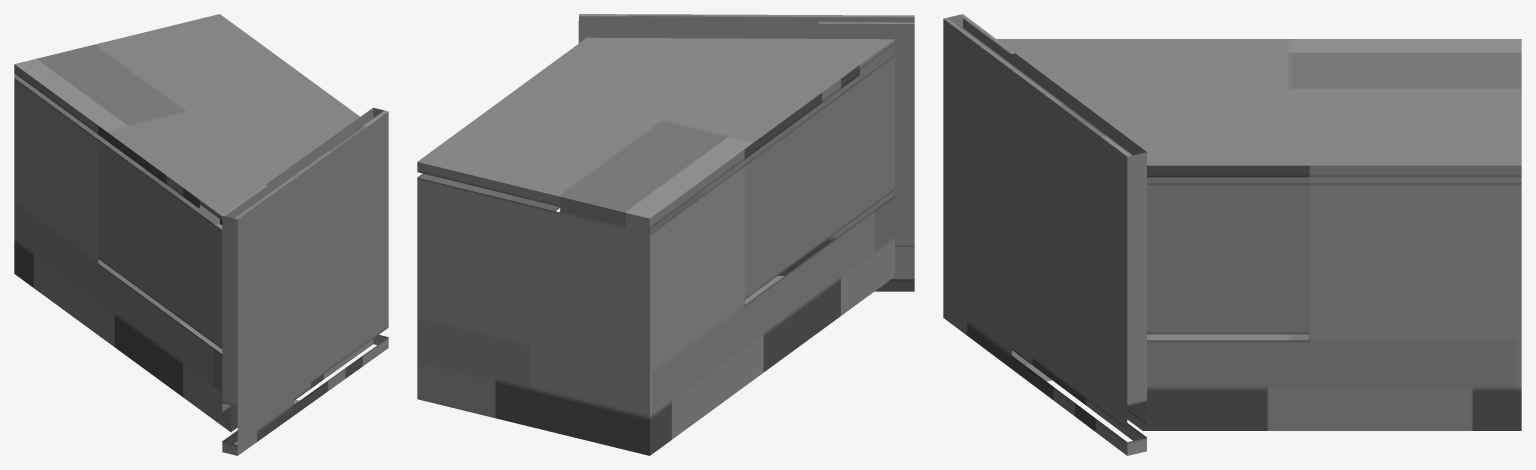
The picture shows the model from 3 angles, left to right: view 1: azimuth 30°, elevation 25°; view 2: azimuth 150°, elevation 25°; view 3: azimuth 270°, elevation 25°; orthographic projection. The views are drawn at different scales.
Bounding box in the file's own units: 0.9727 × 0.9504 × 1.66.
